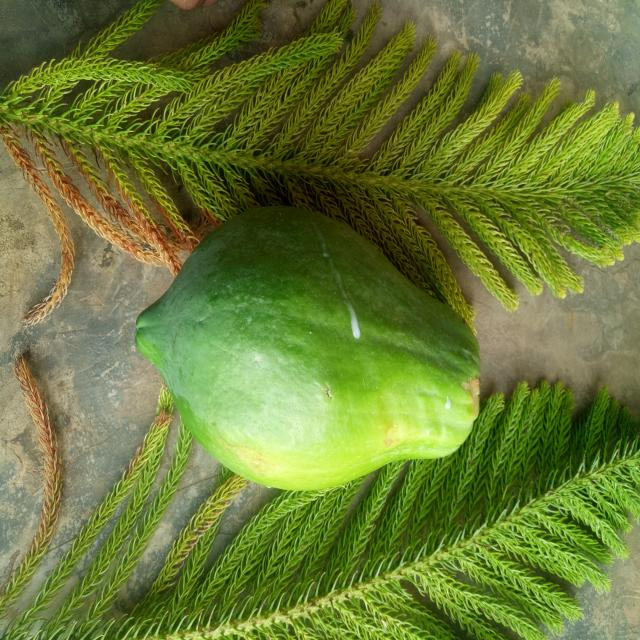Pepaya unrippen: (136, 219, 483, 501)
